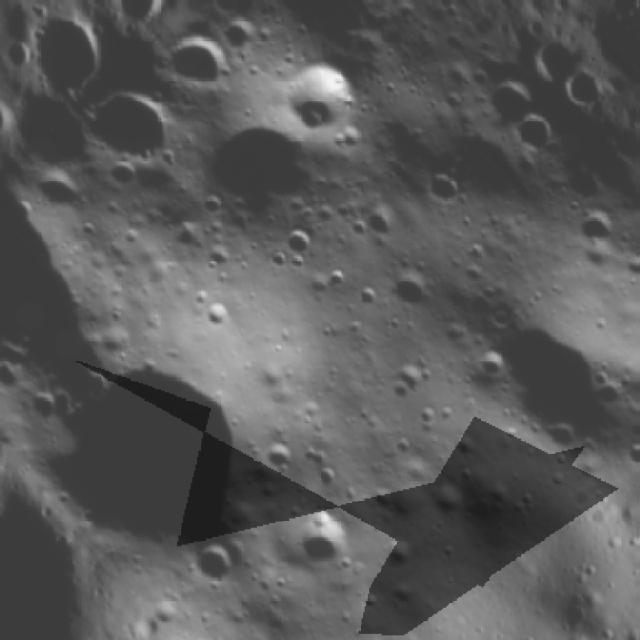crater: (252, 45, 372, 162), (82, 77, 186, 180), (476, 71, 564, 164), (163, 22, 243, 102), (287, 502, 364, 580), (184, 528, 250, 595), (412, 159, 476, 223), (383, 263, 439, 319), (473, 334, 527, 388), (272, 220, 322, 268), (574, 204, 620, 250)
